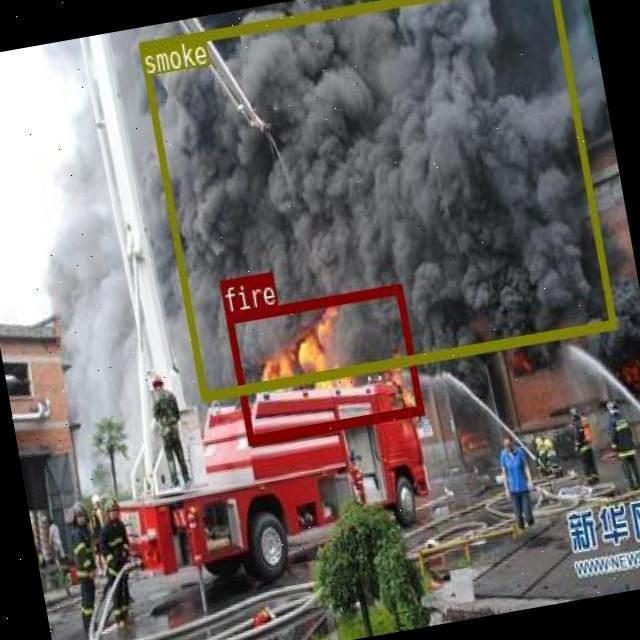fire: (225, 282, 422, 442)
smoke: (137, 0, 615, 399)
